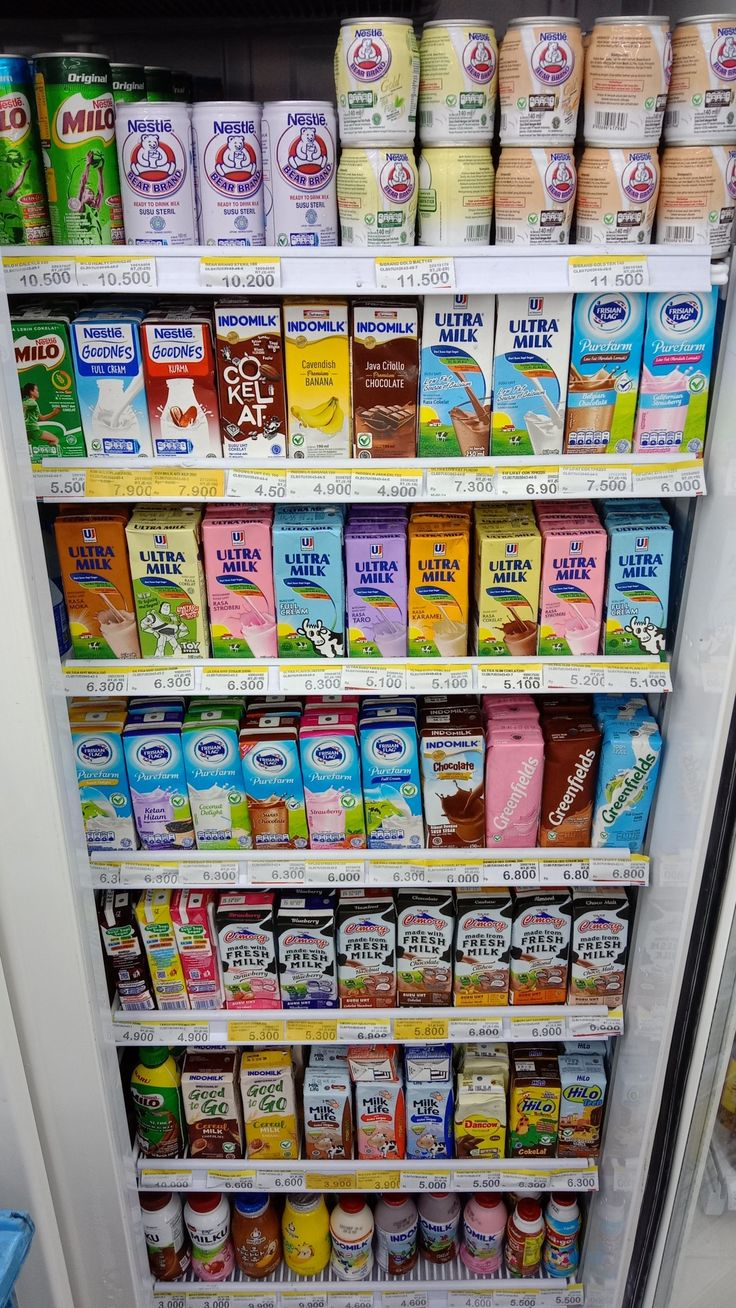Frish Milk: (391, 886, 450, 1003)
Indomilk: (349, 298, 419, 456)
Nestle Beard Brand: (190, 98, 271, 254)
Ultra Milk: (491, 289, 578, 439)
